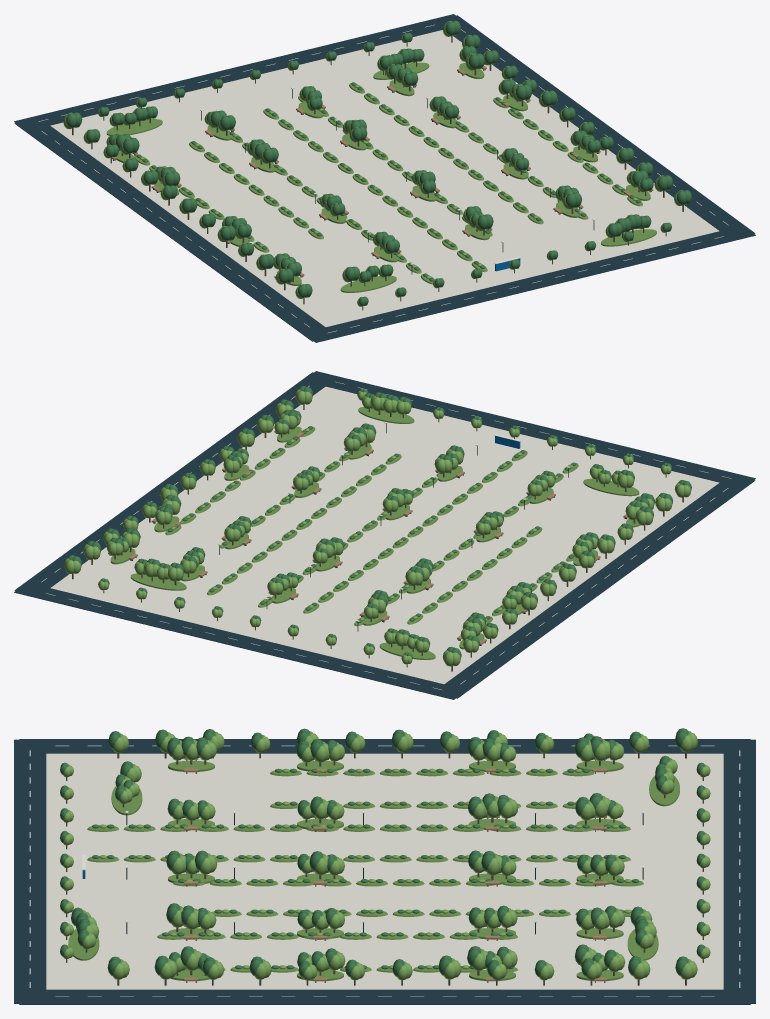
File: landscape.glb
The picture shows the model from 3 angles, top to bottom: view 1: azimuth 30°, elevation 25°; view 2: azimuth 150°, elevation 25°; view 3: azimuth 270°, elevation 25°; orthographic projection. The views are drawn at different scales.
Size of the model in its own units: 29.2 by 1.58 by 34.5.
